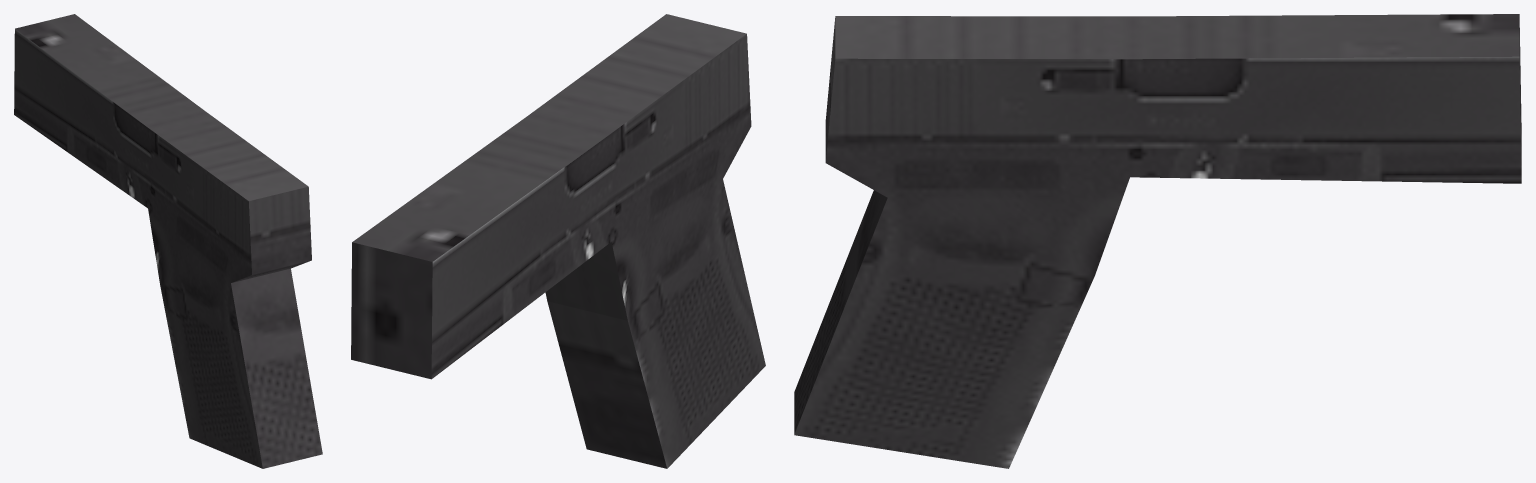
Rendered from glock.obj.
3 views of the same model, side by side, from view 1: azimuth 30°, elevation 25°; view 2: azimuth 150°, elevation 25°; view 3: azimuth 270°, elevation 25° (orthographic). The views are drawn at different scales.
Visible parts, largest first — view 1: Cube; view 2: Cube; view 3: Cube.
Part boxes in pixels (x1,y1,x2,y2): Cube: (14, 14, 322, 468); Cube: (351, 14, 765, 468); Cube: (794, 14, 1521, 468).
Bounding box in the file's own units: 0.2 × 0.8985 × 1.44.
